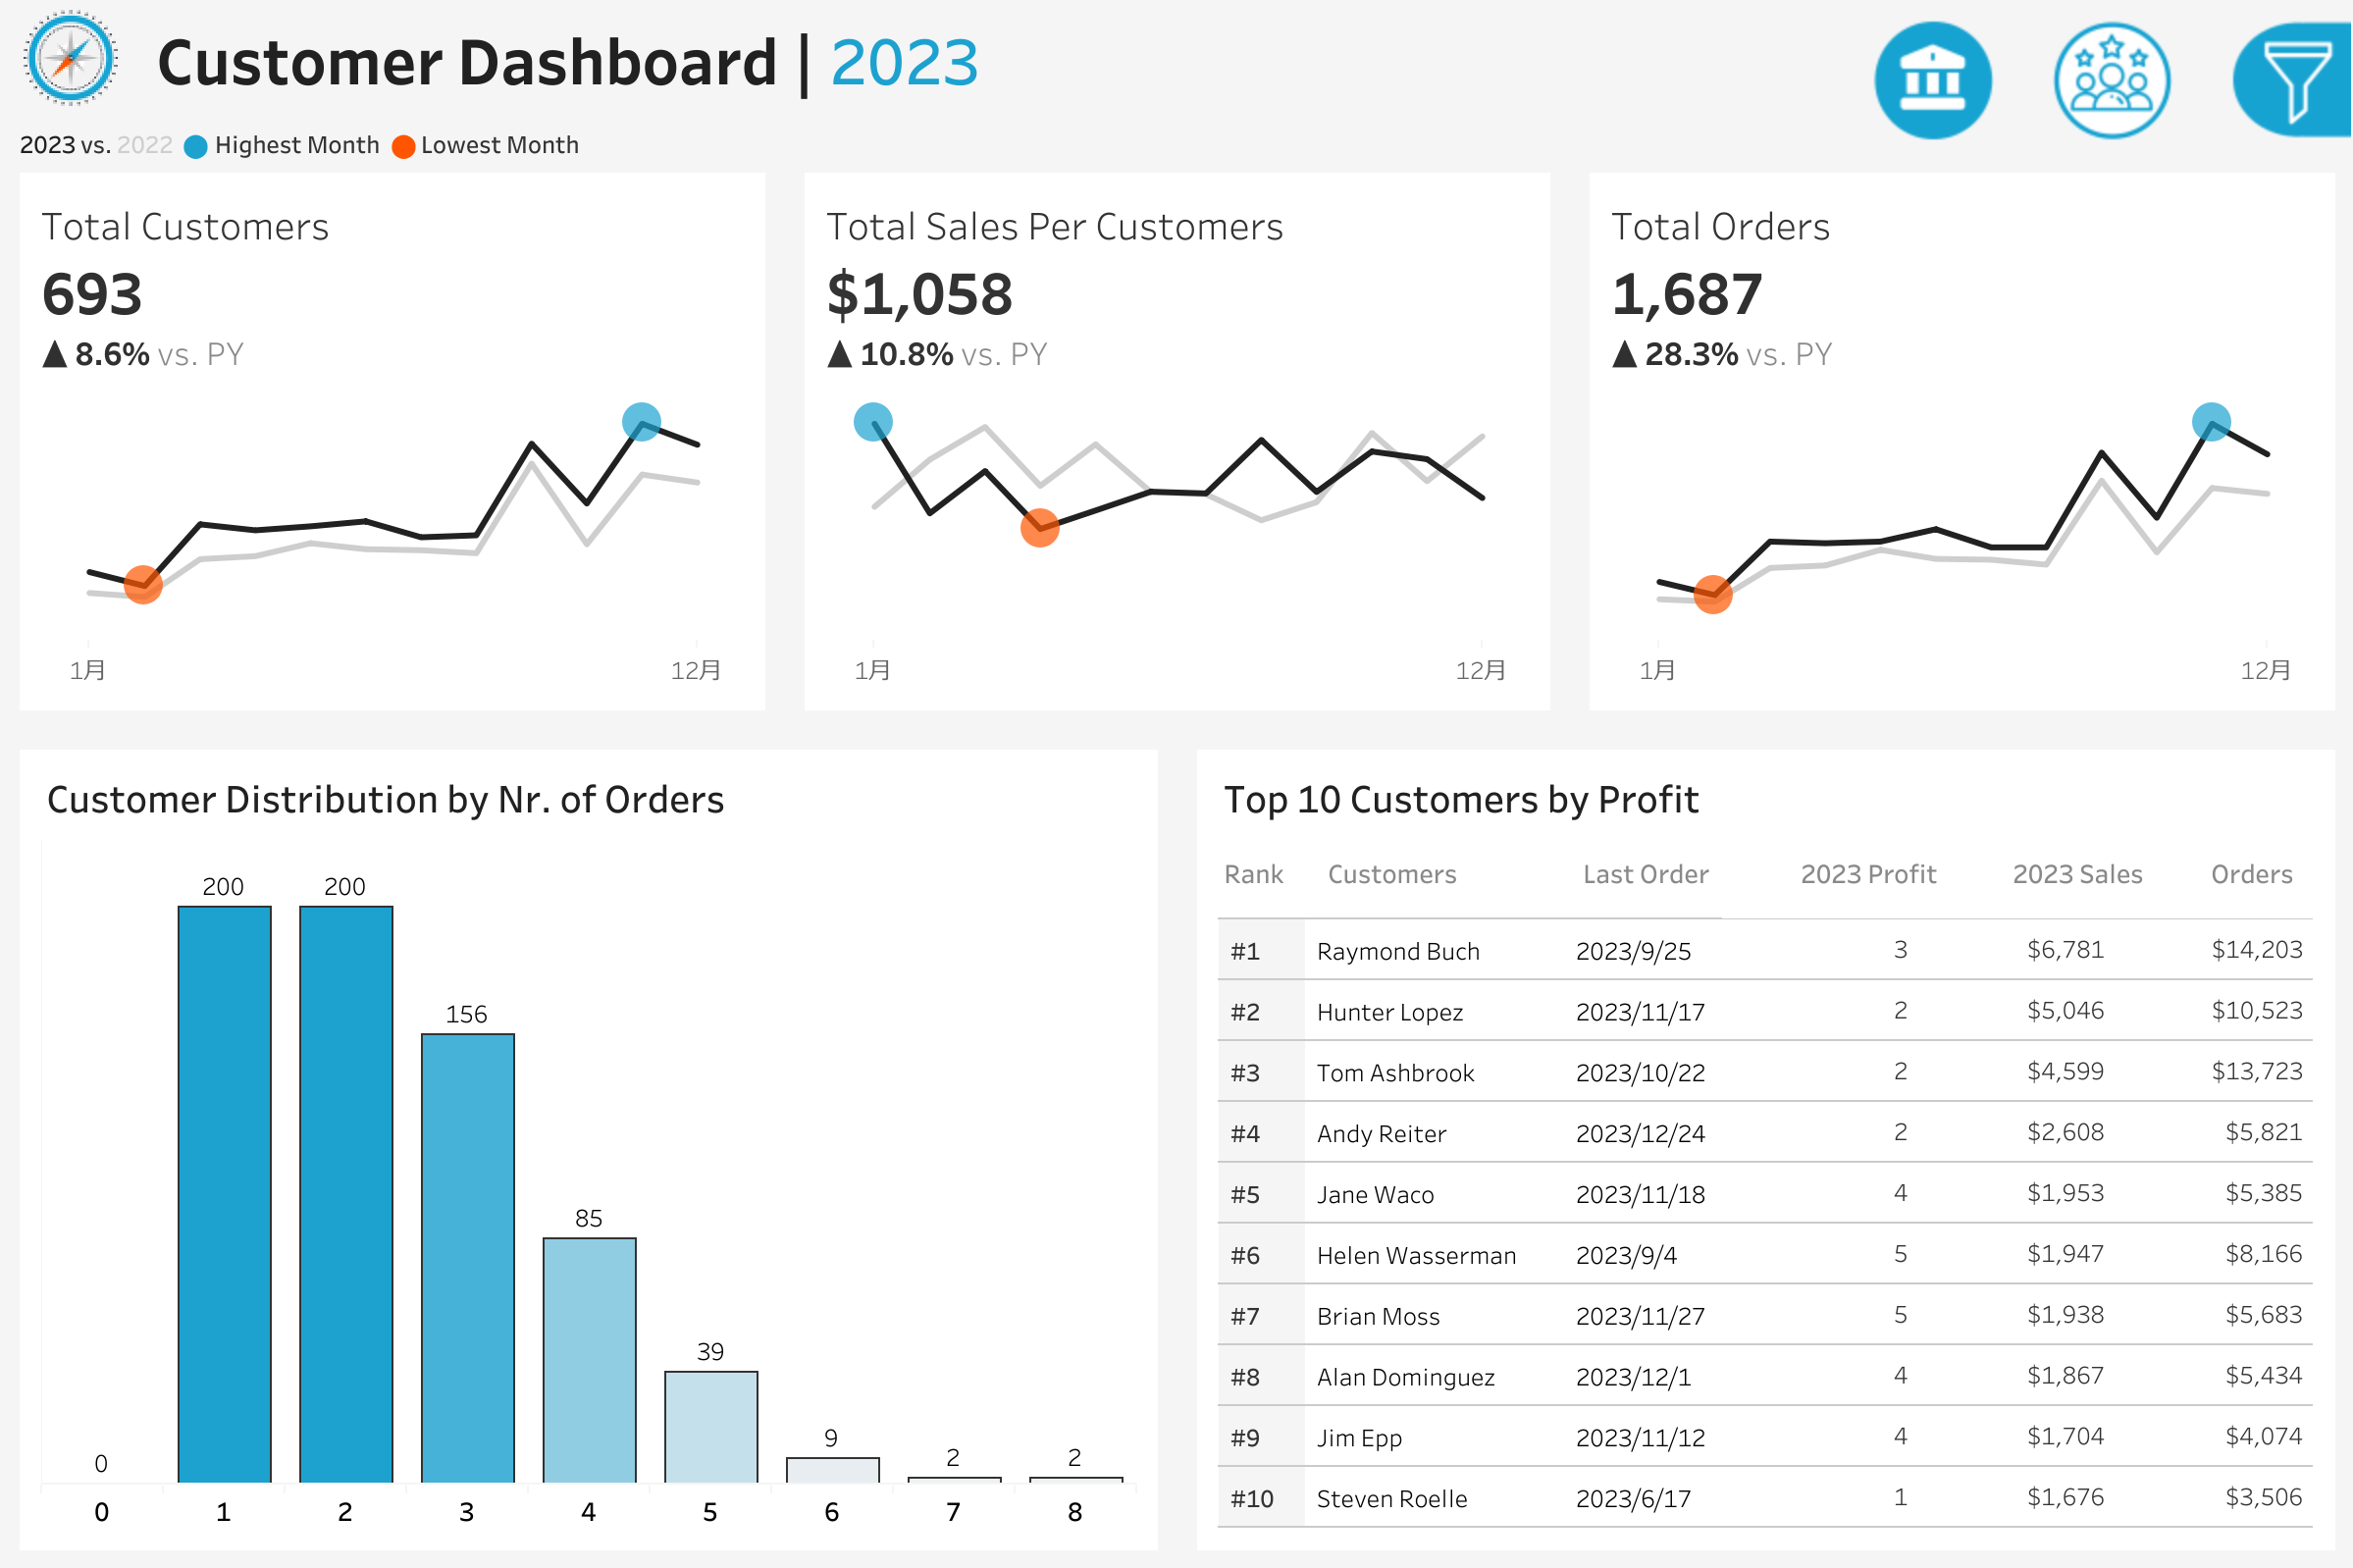

What the dashboard file says about the page in this screenshot:
{"tool":"tableau","page":{"name":"Customer Dashboard","canvas":[1200,800],"ordinal":0},"visuals":[{"type":"image","param":"Image/Icon - Logo.png","box":[0,0,73,59]},{"type":"text","box":[73,0,820,59]},{"type":"dashboard-object","box":[940,6,91,70]},{"type":"dashboard-object","box":[1031,6,91,70]},{"type":"blank","box":[952,10,237,86]},{"type":"worksheet","title":"Legend KPI","mark":"Automatic","box":[0,59,1200,29]},{"type":"worksheet","title":"KPI Customers","mark":"Automatic","rows":["Min/Max Quantity (copy)_3221481164588691468"],"cols":["Order Date"],"box":[0,88,400,284]},{"type":"worksheet","title":"KPI Sales Per Customers","mark":"Automatic","rows":["Min/Max Quantity (copy)_3221481164537155591"],"cols":["Order Date"],"box":[400,88,400,284]},{"type":"worksheet","title":"KPI Orders","mark":"Automatic","rows":["Min/Max Sales (copy)_3221481164601258003"],"cols":["Order Date"],"box":[800,88,400,284]},{"type":"text","box":[952,96,237,37]},{"type":"parameter","param":"[Parameters].[Parameter 1]","box":[952,133,237,55]},{"type":"text","box":[952,188,237,32]},{"type":"filter","title":"KPI Customers","param":"[federated.1kpxa041aiai2y1cl4pui1t4eju9].[none:Category:nk]","box":[952,220,237,57]},{"type":"filter","title":"KPI Customers","param":"[federated.1kpxa041aiai2y1cl4pui1t4eju9].[none:Sub-Category:nk]","box":[952,277,237,57]},{"type":"blank","box":[952,334,237,60]},{"type":"text","box":[17,389,566,34]},{"type":"text","box":[617,389,566,34]},{"type":"text","box":[952,394,237,32]},{"type":"worksheet","title":"Customer Distribution","mark":"Bar","rows":["CY Sales (copy)_3221481164532666369"],"cols":["Calculation_998110323739992064"],"box":[17,423,566,360]},{"type":"text","box":[617,423,53,40]},{"type":"text","box":[670,423,130,40]},{"type":"text","box":[800,423,111,40]},{"type":"text","box":[911,423,108,40]},{"type":"text","box":[1019,423,101,40]},{"type":"text","box":[1120,423,63,40]},{"type":"filter","title":"KPI Customers","param":"[federated.1kpxa041aiai2y1cl4pui1t4eju9].[none:Region:nk]","box":[952,426,237,57]},{"type":"worksheet","title":"Top Customers","mark":"Automatic","rows":["Calculation_782500491678904334","Customer Name","Order Date"],"box":[617,463,566,320]},{"type":"filter","title":"KPI Customers","param":"[federated.1kpxa041aiai2y1cl4pui1t4eju9].[none:State:nk]","box":[952,483,237,57]},{"type":"filter","title":"KPI Customers","param":"[federated.1kpxa041aiai2y1cl4pui1t4eju9].[none:City:nk]","box":[952,540,237,57]}]}

Visuals, with their boxes in screenshot pixels (x1, y1, x2, y2), scaled from the page's 1200x800 canvas onto the 2353x1568 screenshot:
image: [0,0,143,116]
text: [143,0,1752,116]
dashboard-object: [1843,12,2021,149]
dashboard-object: [2021,12,2200,149]
blank: [1866,20,2331,188]
"Legend KPI" worksheet: [0,116,2352,173]
"KPI Customers" worksheet: [0,173,784,729]
"KPI Sales Per Customers" worksheet: [784,173,1569,729]
"KPI Orders" worksheet: [1569,173,2352,729]
text: [1866,188,2331,261]
parameter: [1866,261,2331,369]
text: [1866,369,2331,431]
"KPI Customers" filter: [1866,431,2331,543]
"KPI Customers" filter: [1866,543,2331,654]
blank: [1866,654,2331,772]
text: [33,762,1143,829]
text: [1210,762,2320,829]
text: [1866,772,2331,835]
"Customer Distribution" worksheet (Bar marks): [33,829,1143,1535]
text: [1210,829,1314,908]
text: [1314,829,1569,908]
text: [1569,829,1786,908]
text: [1786,829,1998,908]
text: [1998,829,2196,908]
text: [2196,829,2320,908]
"KPI Customers" filter: [1866,835,2331,947]
"Top Customers" worksheet: [1210,908,2320,1535]
"KPI Customers" filter: [1866,947,2331,1059]
"KPI Customers" filter: [1866,1059,2331,1171]
